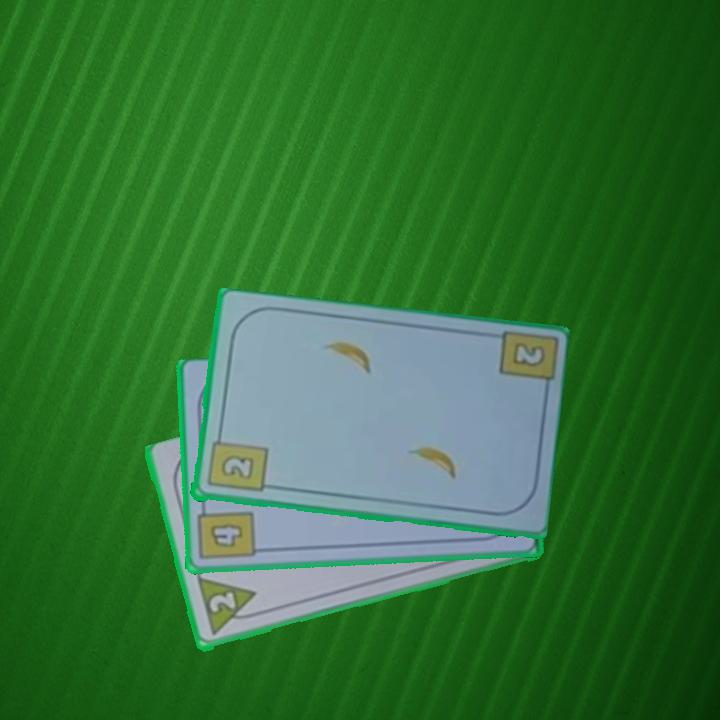2b: (203, 429, 269, 496), (512, 342, 545, 368)
2p: (205, 588, 238, 617)
4b: (195, 499, 258, 564)
